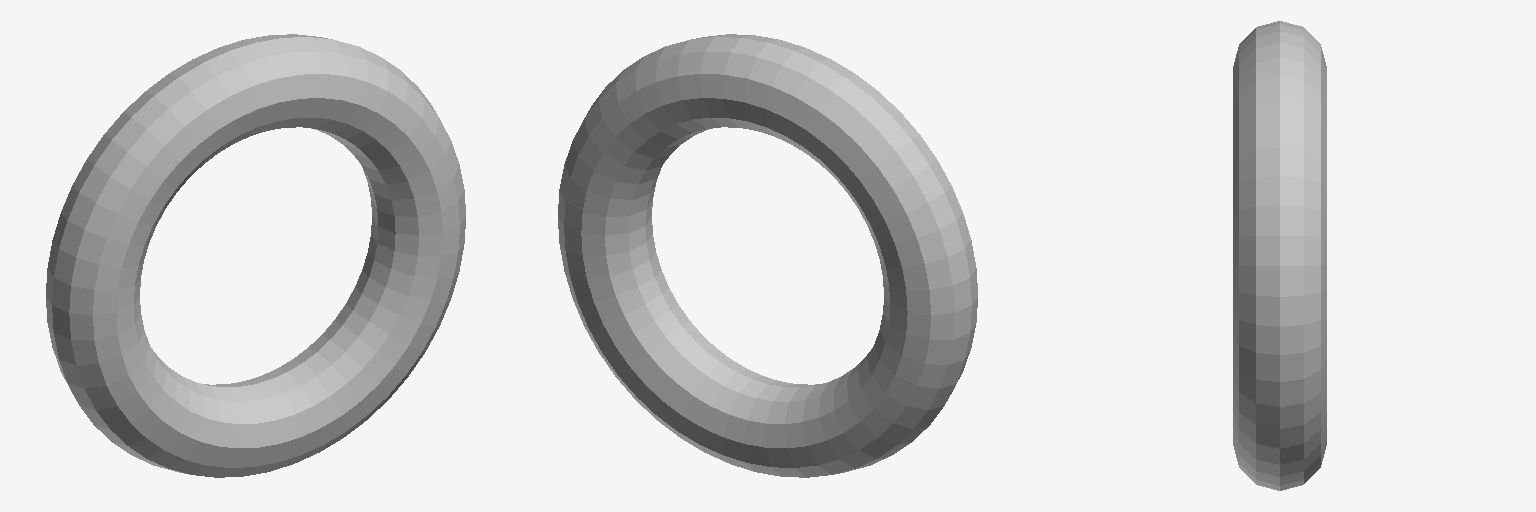
File: ring.obj
3 renders of one model, left to right at view 1: azimuth 30°, elevation 25°; view 2: azimuth 150°, elevation 25°; view 3: azimuth 270°, elevation 25°, orthographic.
Visible parts, largest first — view 1: Torus.001; view 2: Torus.001; view 3: Torus.001.
Part boxes in pixels (x1,y1,x2,y2): Torus.001: (46, 34, 465, 477); Torus.001: (558, 34, 977, 477); Torus.001: (1233, 21, 1326, 490).
Size of the model in its own units: 0.6203 by 0.6203 by 0.1241.